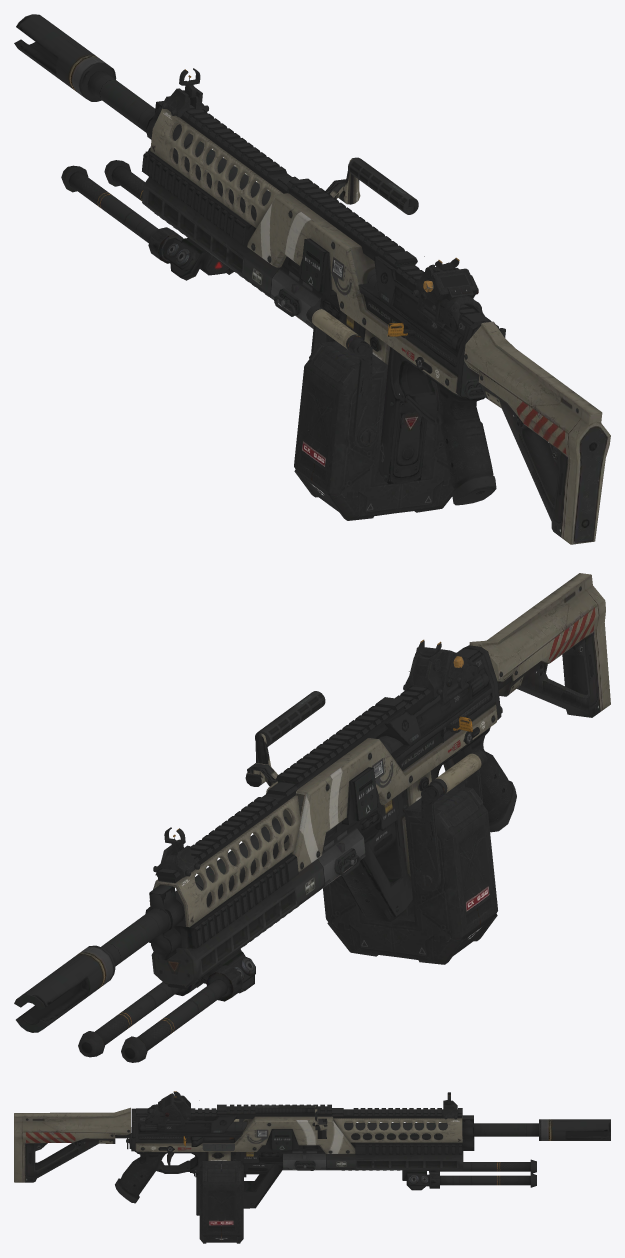
File: devotion.glb
3 views of the same model, one above another, from view 1: azimuth 30°, elevation 25°; view 2: azimuth 150°, elevation 25°; view 3: azimuth 270°, elevation 25° (orthographic). The views are drawn at different scales.
Parts seen in each view (by area): view 1: DEVOTION, devotion_mag; view 2: DEVOTION, devotion_mag; view 3: DEVOTION, devotion_mag.
Boxes of the visible parts, x1,y1,x2,y2 form: DEVOTION: [14, 14, 610, 544]; devotion_mag: [294, 306, 454, 520]; DEVOTION: [14, 573, 610, 1062]; devotion_mag: [323, 750, 497, 964]; DEVOTION: [14, 1091, 610, 1215]; devotion_mag: [192, 1119, 246, 1243].
Bounding box in the file's own units: 0.1617 × 0.2866 × 1.07.
Materials: 2 (2 with a texture image).
